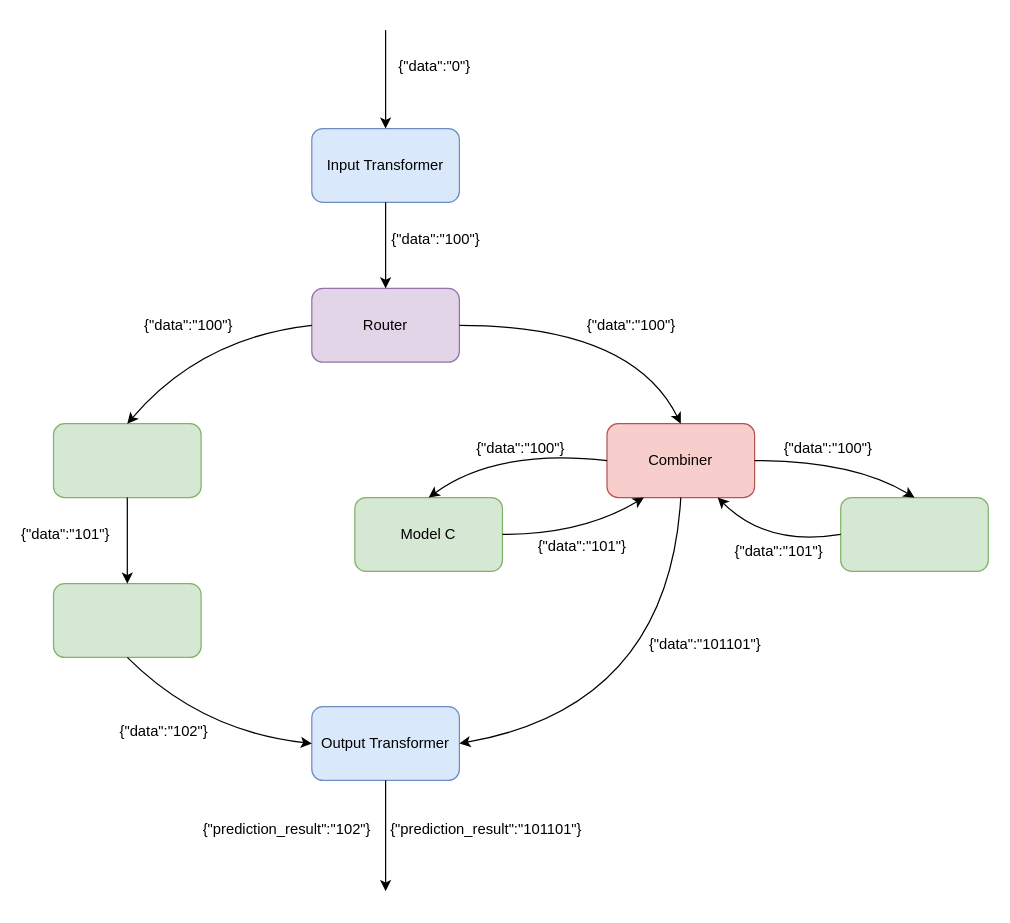
Some shapes in this 1010 by 923 pixel diagram are drawn without their labels. Here are the shapes that lost their labels. From the top down, the box of each, then its label:
(52, 423, 201, 498): Model A
(839, 496, 988, 571): Model D
(52, 582, 201, 657): Model B
